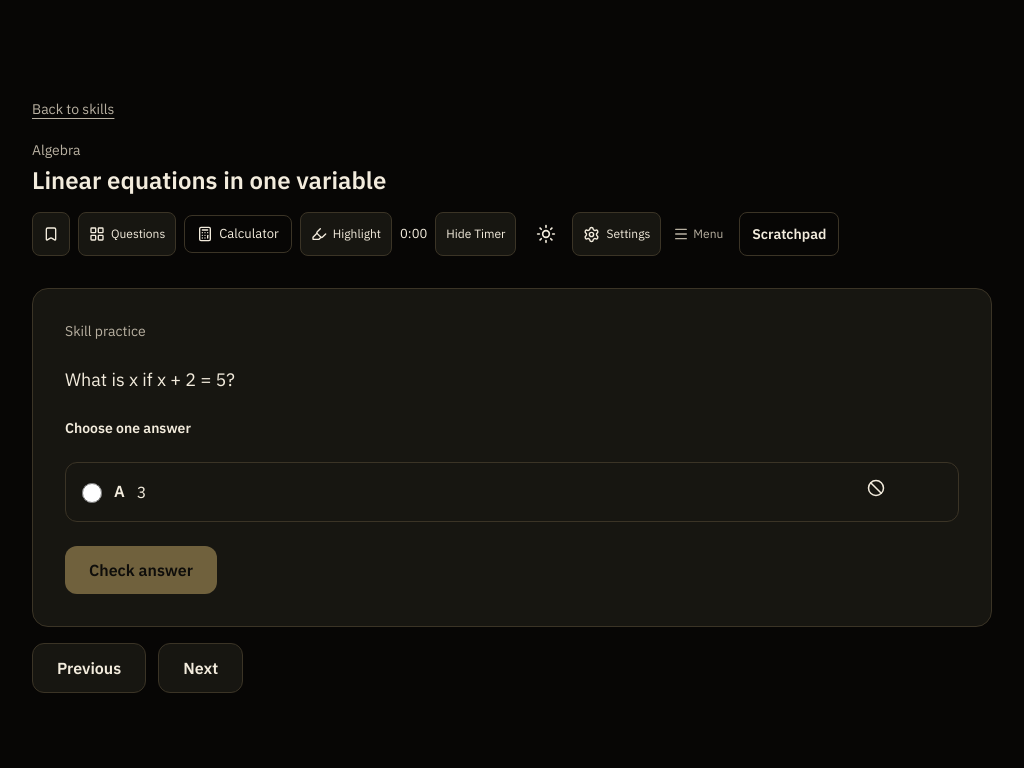
Test case: canonical student practice › advances to the server's next question without starting or grading locally
Click the radio button named "Choice A": {"x": 92, "y": 493} [82, 483, 102, 503]
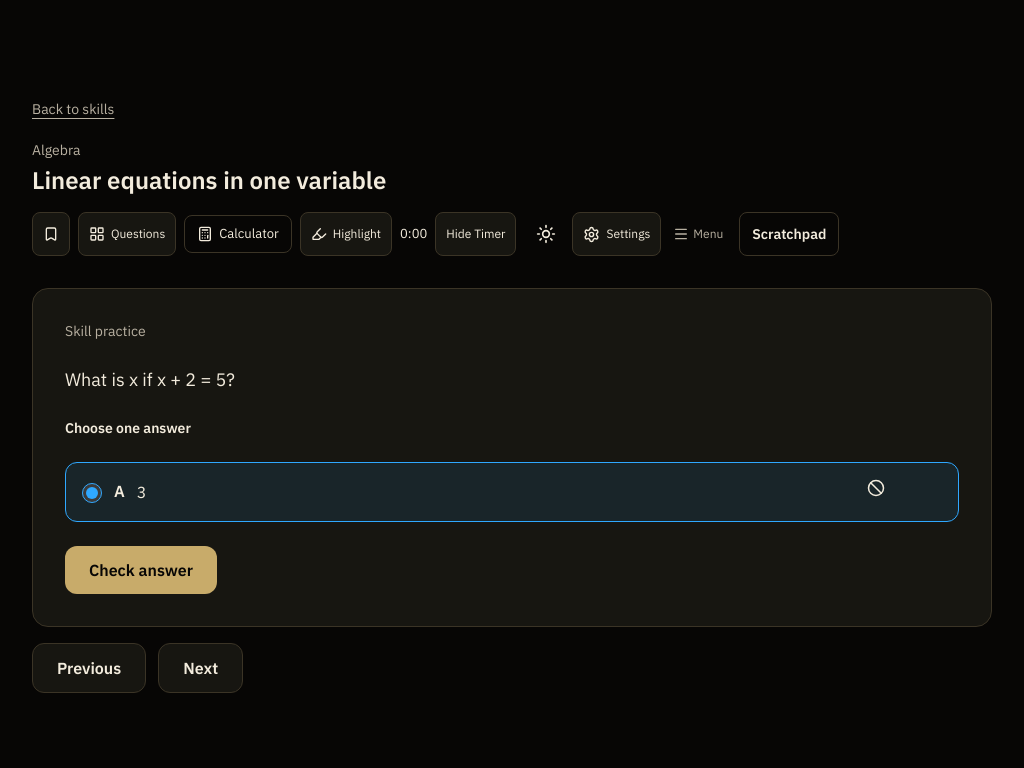
Click the button "Check answer": {"x": 141, "y": 570} [65, 546, 217, 594]
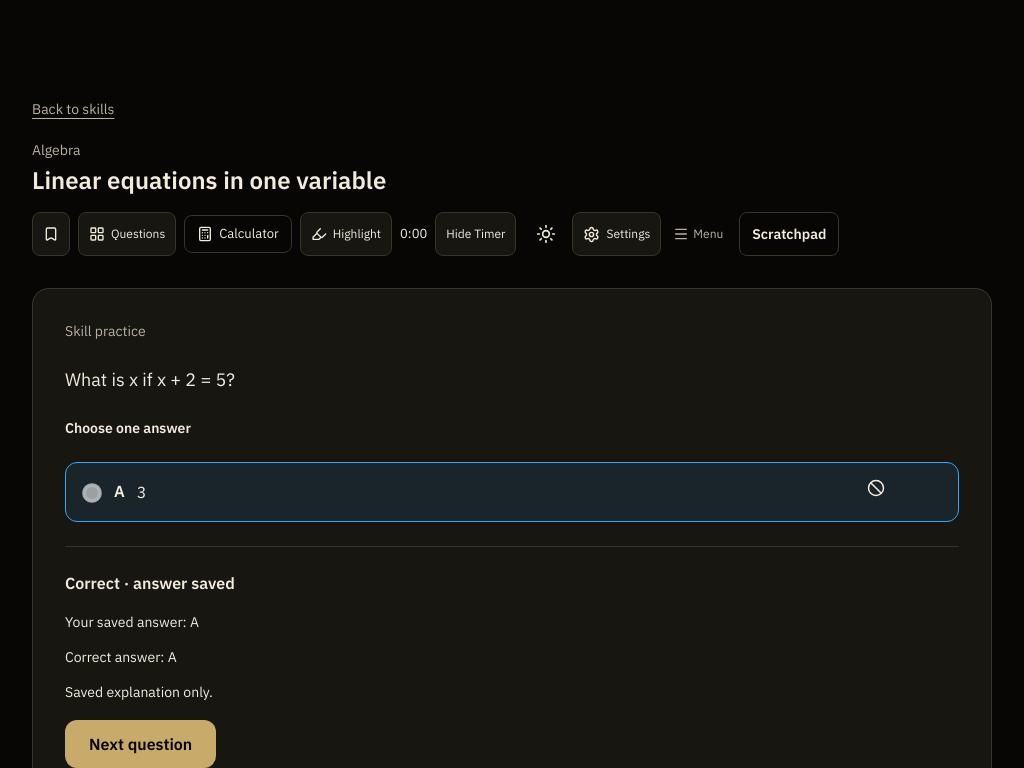
Result: the heading "Correct · answer saved" is shown at [65, 573, 235, 593]
Click the button "Next question": {"x": 141, "y": 744} [65, 720, 216, 767]
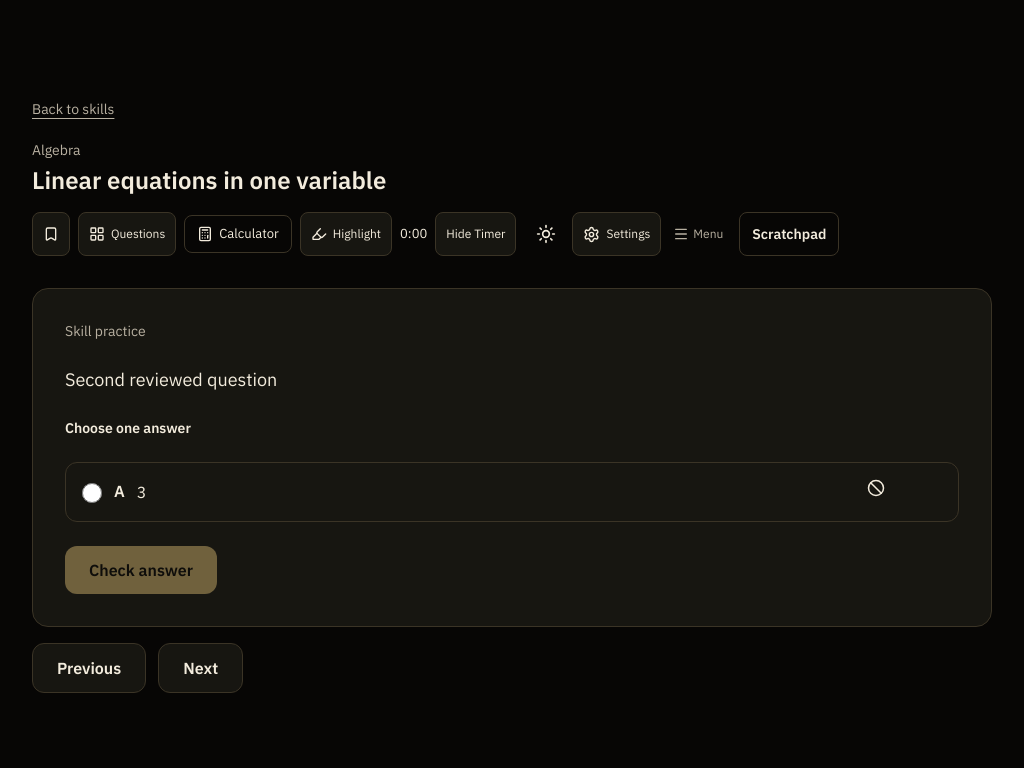
Result: the text "Second reviewed question" is shown at [65, 368, 277, 391]
Result: the text "Correct answer:" is gone
